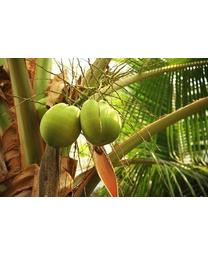coconut: (76, 96, 122, 148), (38, 99, 79, 146)
